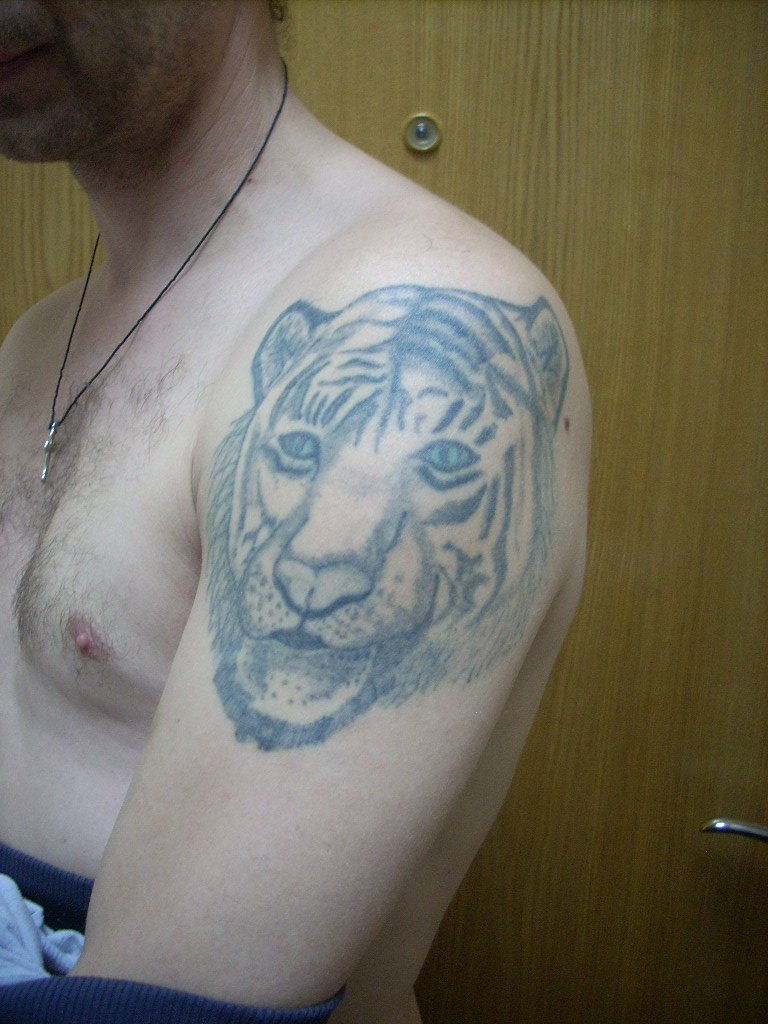tatu5_tigr: (180, 238, 598, 772)
